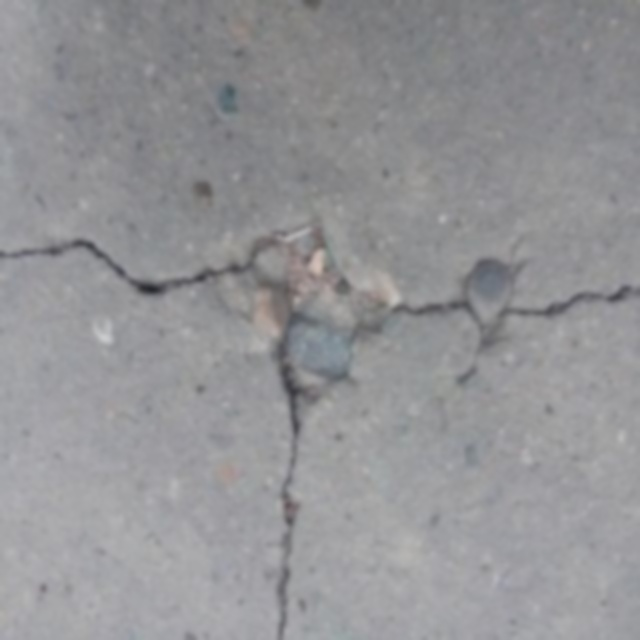SurfaceCrack: (0, 162, 640, 386), (200, 102, 362, 640)
